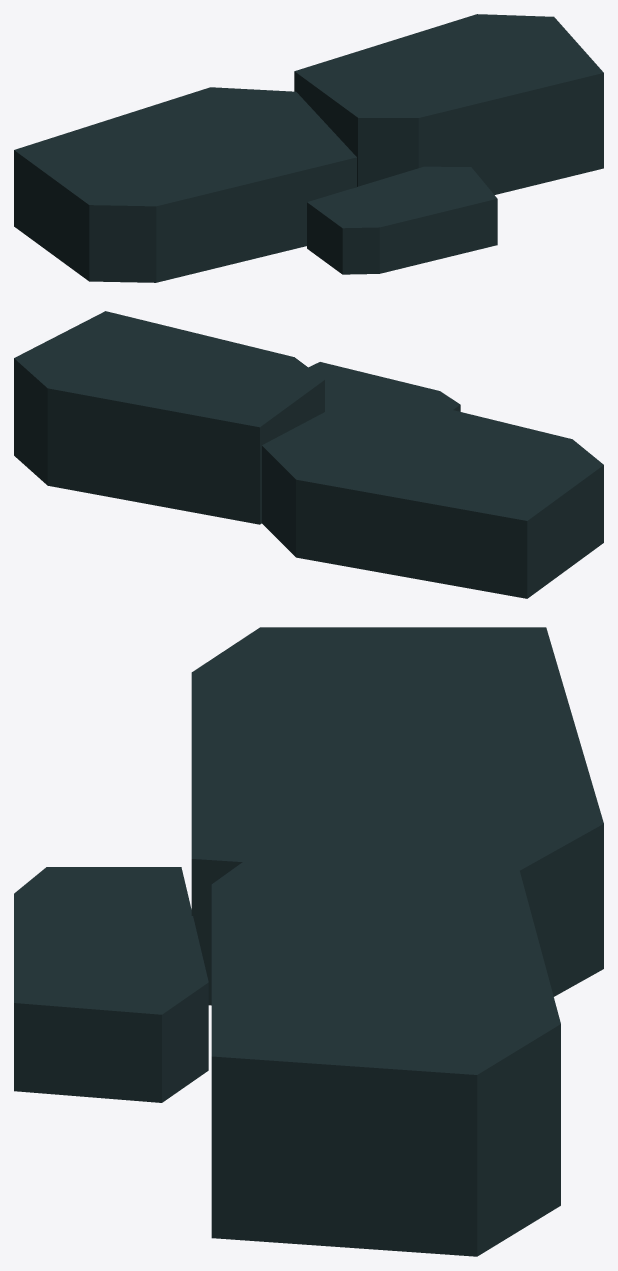
File: rubble_cluster.glb
3 views of the same model, one above another, from view 1: azimuth 30°, elevation 25°; view 2: azimuth 150°, elevation 25°; view 3: azimuth 270°, elevation 25° (orthographic). The views are drawn at different scales.
Parts seen in each view (by area): view 1: body; view 2: body; view 3: body.
Part boxes in pixels (x1,y1,x2,y2): body: (14, 14, 603, 282); body: (14, 311, 603, 598); body: (14, 627, 603, 1256).
Size of the model in its own units: 2 by 0.35 by 1.03.
